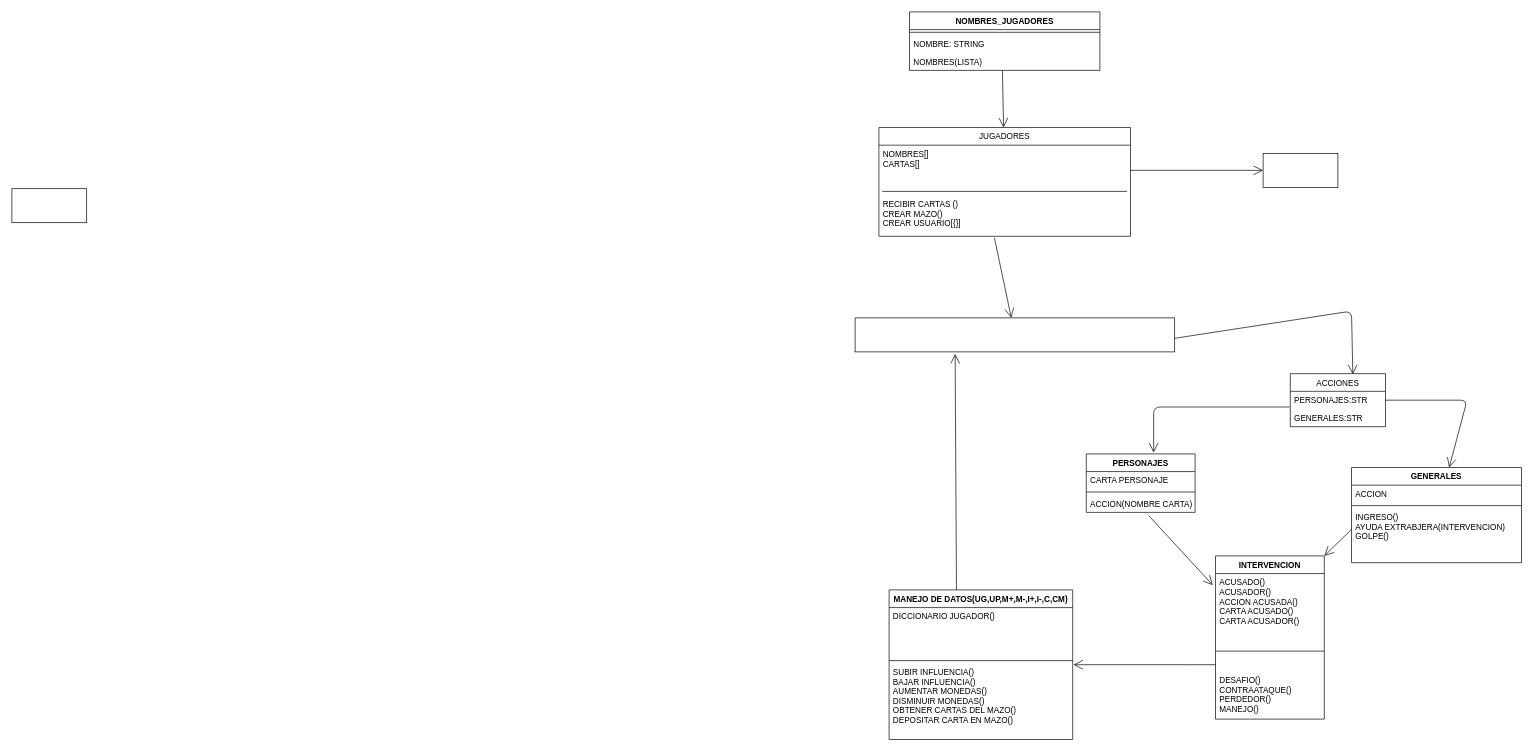
The diagram is 1533 pixels wide and 753 high, and some of its shapes have lost their labels. The centre of each missing label's shape, as x and y in pixels:
LISTA_USUARIOS(NOMBRE):{NOMBRE,CARTAS,MONEDAS,LOG,INFLUENCIA}: [1014,334]
MAZO: [1300,170]
Object: [49,205]
